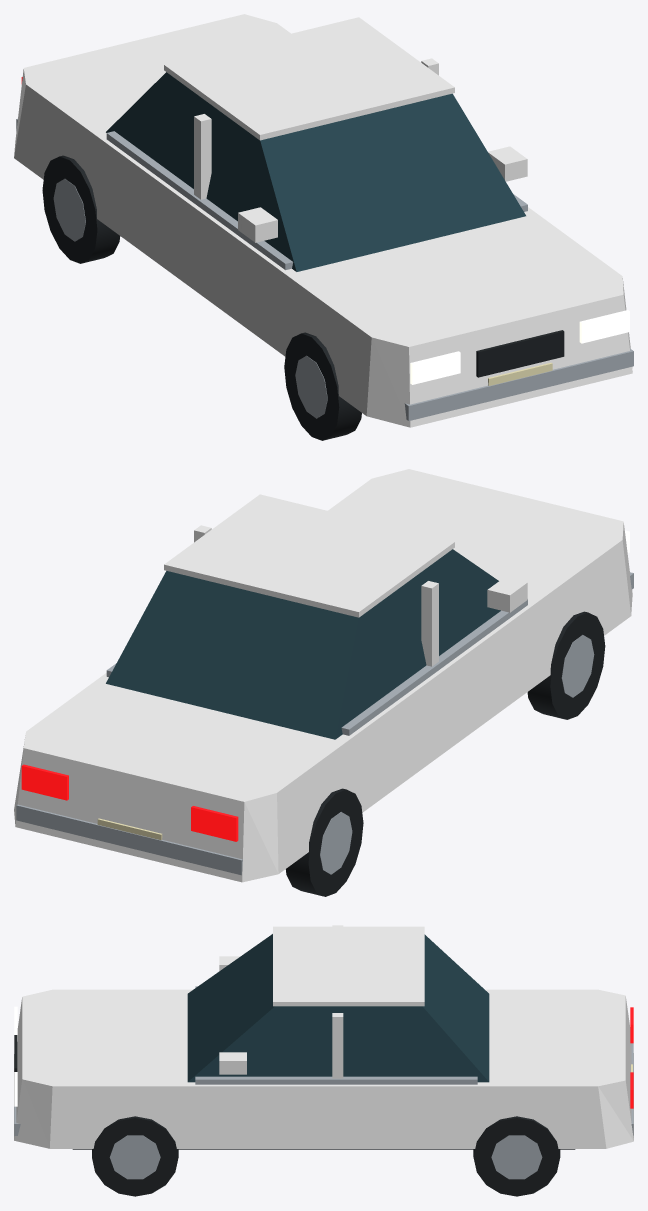
Rendered from sedan_4p5m.glb.
The picture shows the model from 3 angles, top to bottom: view 1: azimuth 30°, elevation 25°; view 2: azimuth 150°, elevation 25°; view 3: azimuth 270°, elevation 25°; orthographic projection. The views are drawn at different scales.
Parts seen in each view (by area): view 1: Sedan_4p50m_1p80m_1p45m; view 2: Sedan_4p50m_1p80m_1p45m; view 3: Sedan_4p50m_1p80m_1p45m.
Part boxes in pixels (x1,y1,x2,y2): Sedan_4p50m_1p80m_1p45m: [14, 14, 633, 440]; Sedan_4p50m_1p80m_1p45m: [14, 469, 633, 896]; Sedan_4p50m_1p80m_1p45m: [14, 925, 633, 1196].
Bounding box in the file's own units: 1.8 × 1.45 × 4.5.
